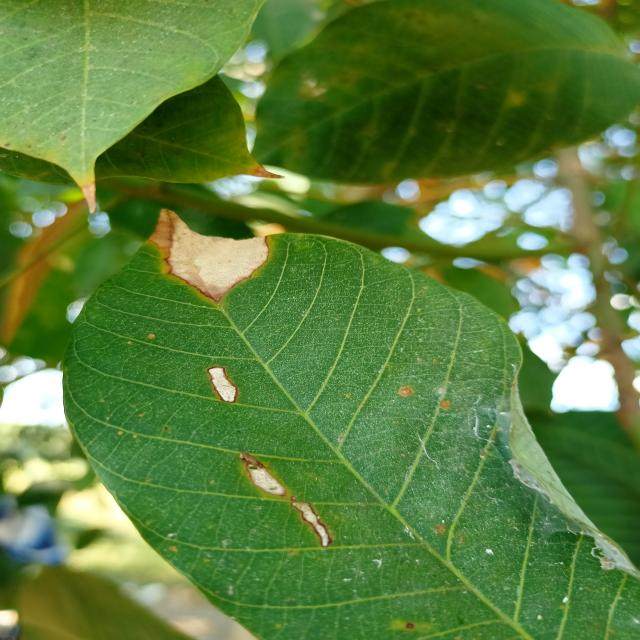Colletotrichum: (405, 622, 414, 628), (291, 496, 297, 501)
Leaf-Blight: (148, 207, 270, 303), (240, 453, 286, 497), (293, 501, 329, 547), (208, 366, 236, 402), (252, 165, 284, 179)
